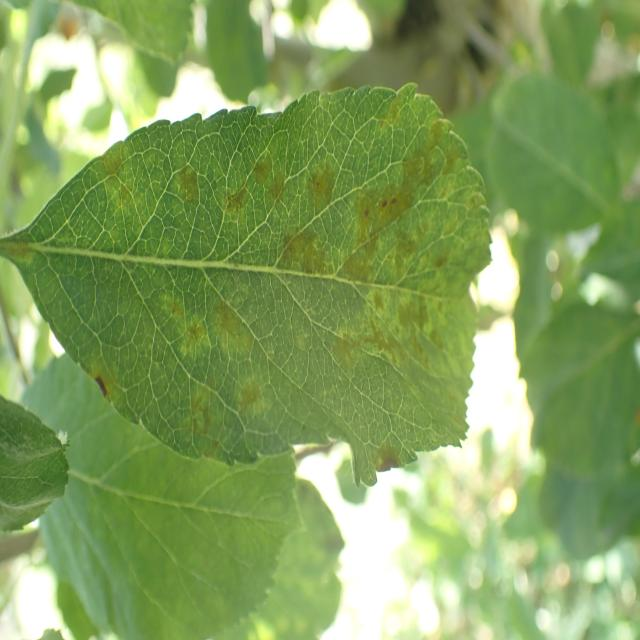scab: (5, 105, 488, 472)
